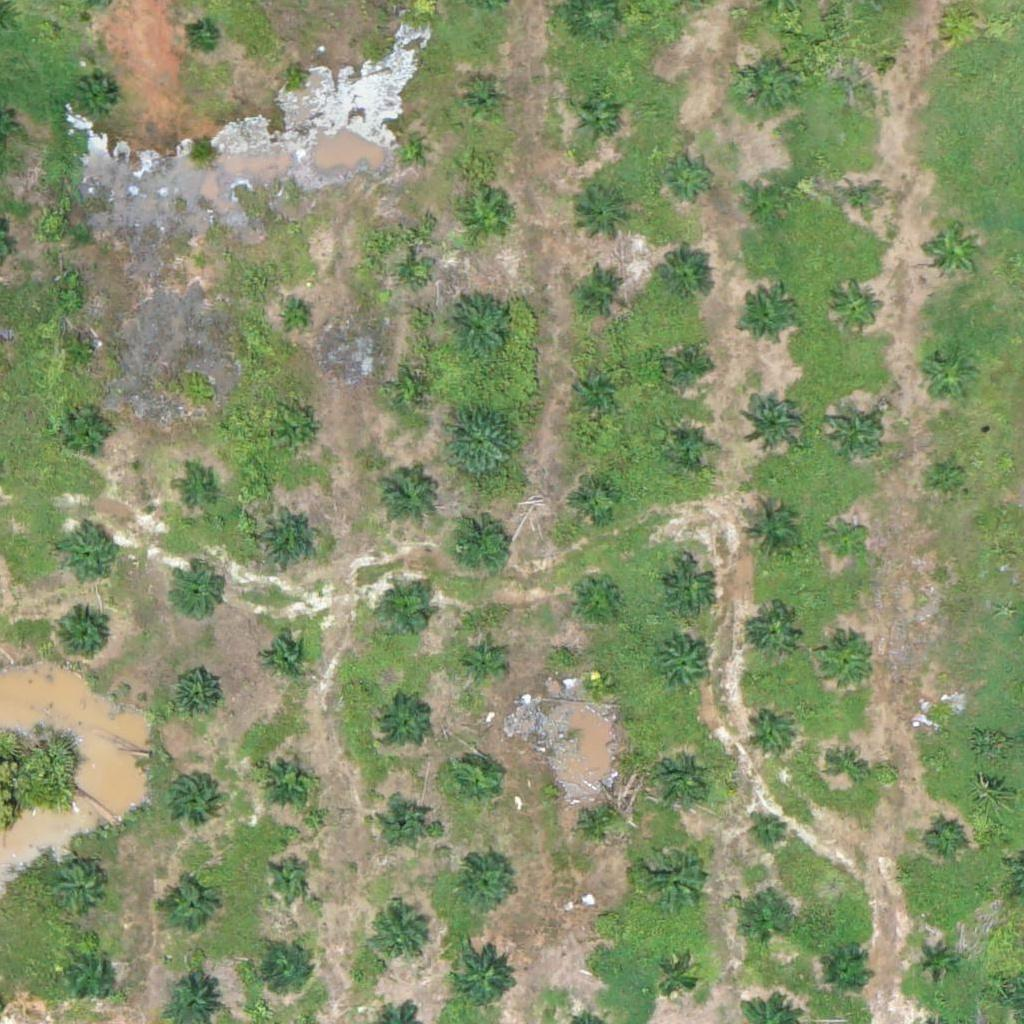Kelapa_Sawit: (440, 289, 515, 365), (444, 507, 519, 583), (639, 833, 714, 909), (444, 403, 519, 479), (373, 462, 436, 525), (915, 344, 978, 407), (658, 558, 721, 621), (258, 508, 321, 571), (574, 182, 637, 245), (732, 53, 795, 116), (922, 221, 985, 284), (653, 251, 716, 314), (737, 289, 799, 352), (452, 942, 514, 1005), (370, 905, 432, 968), (650, 750, 712, 813), (738, 502, 800, 565), (825, 403, 887, 466), (741, 386, 803, 449), (449, 852, 511, 915), (52, 605, 114, 668), (256, 747, 318, 810), (56, 523, 118, 586), (655, 637, 717, 699), (831, 282, 881, 333), (263, 944, 313, 995), (161, 881, 211, 932), (172, 567, 222, 618), (55, 866, 105, 917), (66, 949, 116, 1000), (169, 668, 219, 719), (260, 632, 310, 683), (62, 404, 112, 455), (835, 176, 885, 227), (747, 174, 797, 225), (665, 151, 715, 202), (573, 93, 623, 144), (381, 793, 431, 843), (384, 587, 434, 637), (380, 697, 430, 747), (570, 570, 620, 620), (569, 474, 619, 524), (751, 605, 801, 655), (821, 637, 871, 687), (734, 900, 784, 950), (447, 753, 497, 803), (166, 771, 216, 821), (462, 195, 512, 245), (820, 947, 870, 997), (651, 956, 701, 1006), (574, 796, 624, 846), (663, 340, 713, 390), (665, 424, 715, 474), (571, 360, 621, 410), (576, 265, 626, 315), (458, 78, 508, 128), (746, 709, 796, 759), (73, 75, 123, 125), (462, 643, 500, 681), (175, 473, 213, 511), (749, 811, 787, 849), (826, 522, 864, 560), (924, 705, 962, 743), (830, 747, 868, 785), (280, 416, 317, 454), (915, 943, 952, 981), (929, 819, 967, 856), (269, 860, 306, 898), (846, 51, 883, 89), (64, 334, 101, 372), (929, 459, 966, 496), (190, 24, 215, 50), (402, 380, 427, 406), (395, 135, 420, 160), (400, 263, 425, 288), (283, 306, 308, 331), (283, 62, 308, 87), (583, 671, 608, 696), (590, 906, 615, 931), (189, 251, 214, 276)
